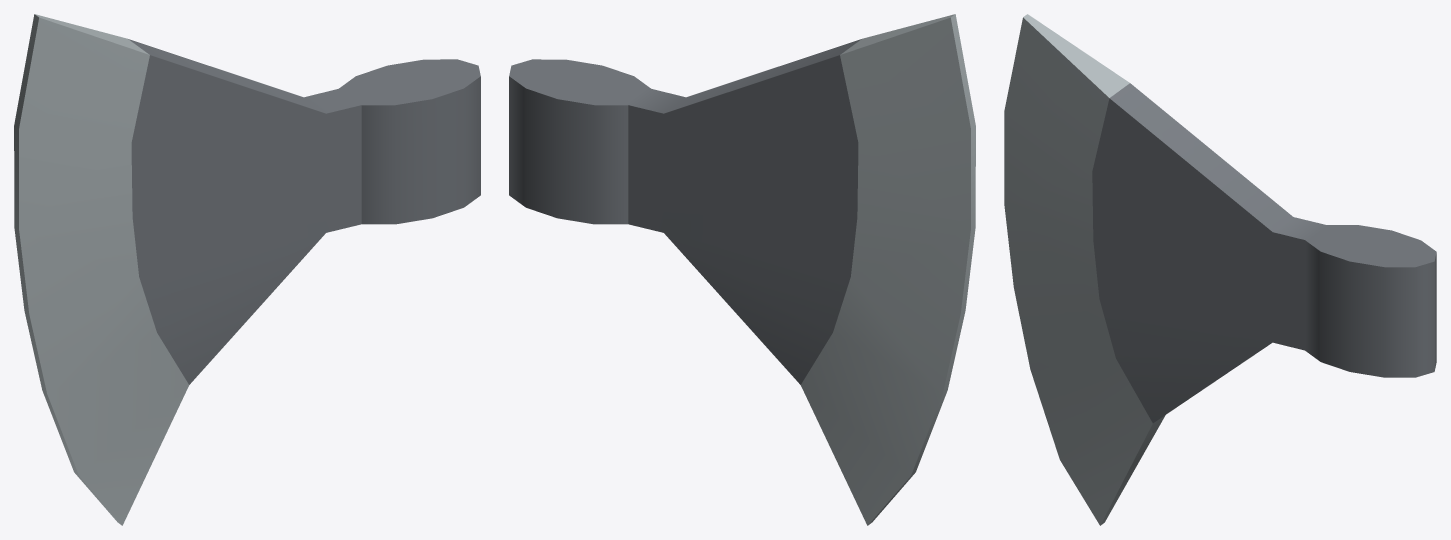
Rendered from LumberjackAxeBladeExtended.FBX.
3 views of the same model, side by side, from view 1: azimuth 30°, elevation 25°; view 2: azimuth 150°, elevation 25°; view 3: azimuth 330°, elevation 25° (orthographic). The views are drawn at different scales.
Visible parts, largest first — view 1: LumberjackAxeBladeExtended; view 2: LumberjackAxeBladeExtended; view 3: LumberjackAxeBladeExtended.
Boxes of the visible parts, x1=… form: LumberjackAxeBladeExtended: x1=14, y1=14, x2=480, y2=525; LumberjackAxeBladeExtended: x1=509, y1=14, x2=975, y2=525; LumberjackAxeBladeExtended: x1=1004, y1=14, x2=1436, y2=525.
Size of the model in its own units: 51.26 by 56.06 by 8.78.
